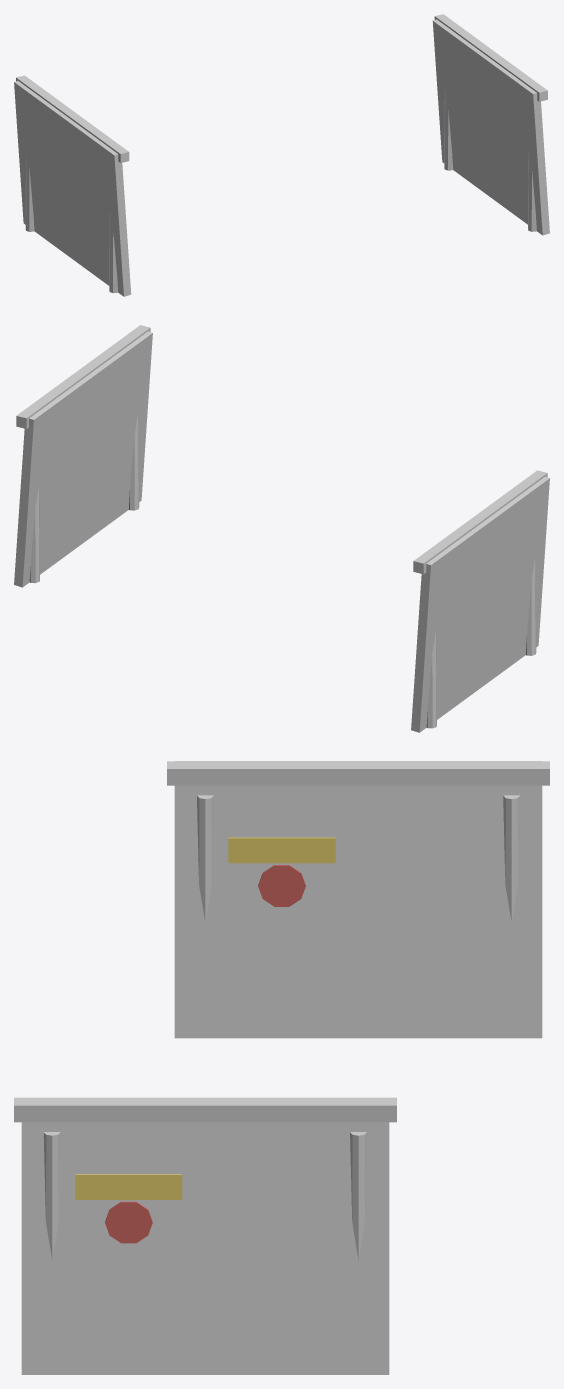
Rendered from racecourse-and-parade-ring-marker-wing-pair-1e3e6a82__38601.glb.
The picture shows the model from 3 angles, top to bottom: view 1: azimuth 30°, elevation 25°; view 2: azimuth 150°, elevation 25°; view 3: azimuth 270°, elevation 25°; orthographic projection. The views are drawn at different scales.
Visible parts, largest first — view 1: marker-wing-pair; view 2: marker-wing-pair; view 3: marker-wing-pair.
Part boxes in pixels (box(x1,y1,x2,y2)): marker-wing-pair: box(14, 14, 549, 296); marker-wing-pair: box(14, 325, 549, 732); marker-wing-pair: box(14, 761, 549, 1374).
Bounding box in the file's own units: 5.43 × 1.92 × 3.5.
